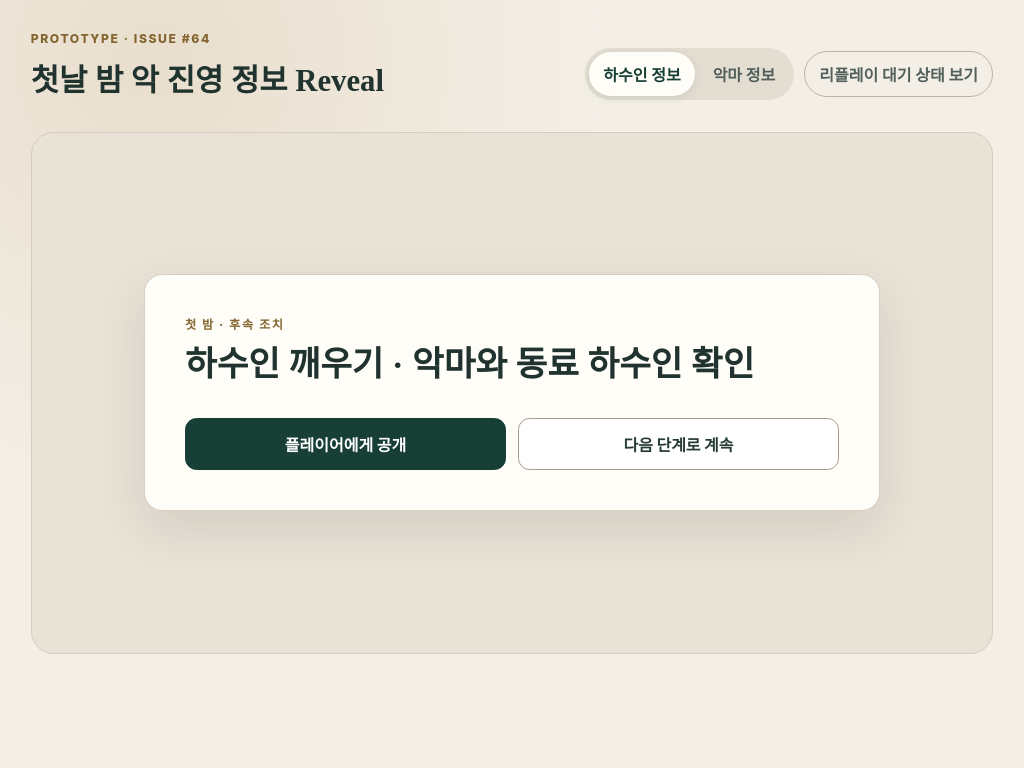
it: shows one concise waiting state and disables continue until replay is ready
The width and height of the screenshot is (1024, 768).
Click the button "리플레이 대기 상태 보기": (899, 74) [804,51,993,97]
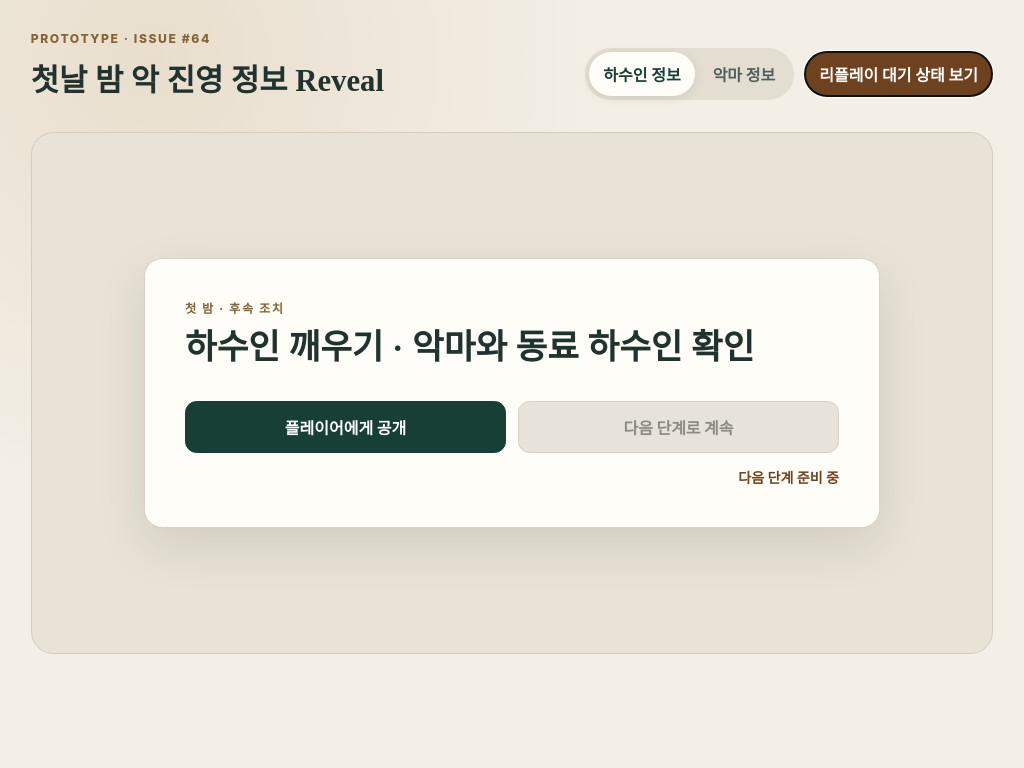
Expected: the text "다음 단계 준비 중" is shown, [738,469,839,486]
Expected: the button "다음 단계로 계속" is disabled, [518,402,839,453]
